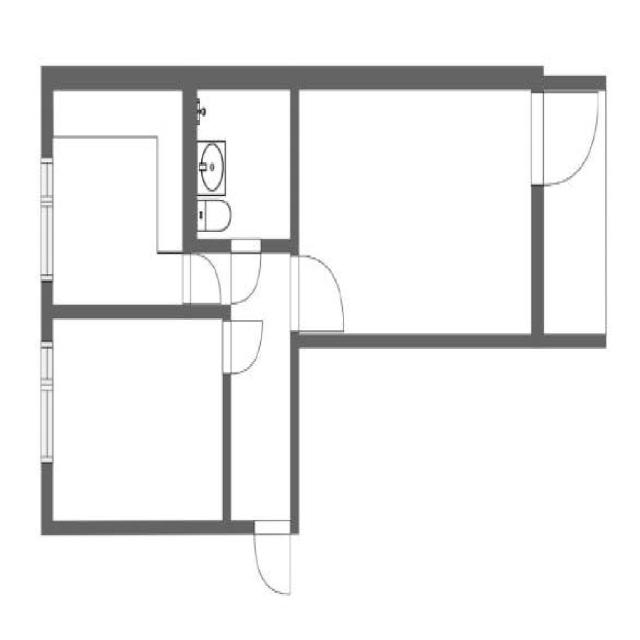door: (530, 88, 600, 187), (289, 250, 353, 334), (248, 512, 298, 606), (219, 308, 266, 375), (224, 233, 265, 307), (180, 249, 228, 306)
window: (32, 147, 59, 291), (34, 334, 58, 475)
zone: (294, 77, 535, 341), (46, 309, 230, 530), (48, 129, 166, 312), (194, 83, 295, 243)
